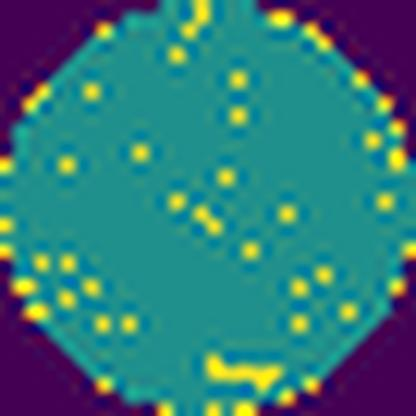Scratch: (204, 351, 286, 397)
